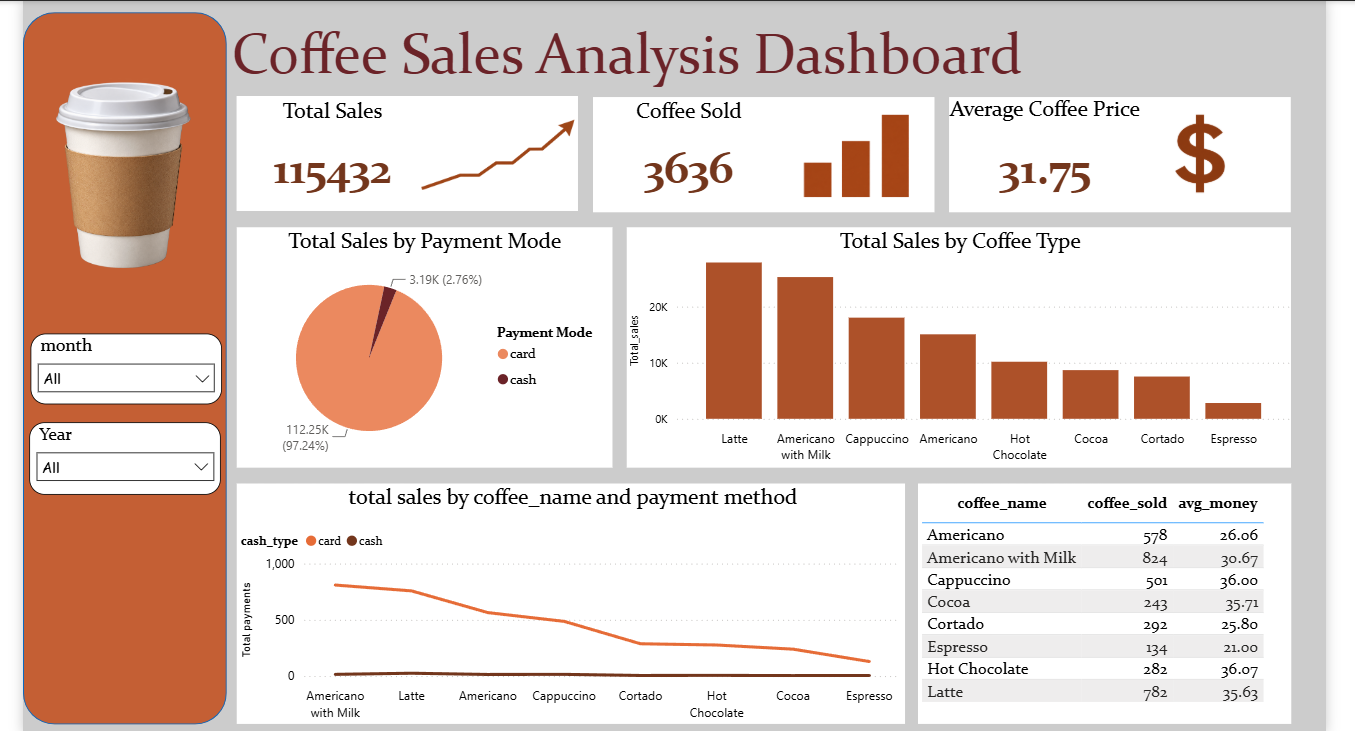

What the dashboard file says about the page in this screenshot:
{"tool":"powerbi","page":{"name":"Page 1","canvas":[1280,720],"ordinal":0},"visuals":[{"type":"shape","box":[0,11.2,200,699.1],"z":0},{"type":"image","box":[0,49.8,194.1,238.8],"z":1000},{"type":"textbox","box":[200.3,12.3,808.2,82.3],"z":2000},{"type":"pieChart","fields":{"Y":["Sum(cleaned coffee_sales.money)"],"Category":["cleaned coffee_sales.cash_type"]},"box":[209.9,222.3,369.1,236],"z":3000},{"type":"columnChart","fields":{"Y":["Sum(cleaned coffee_sales.money)"],"Category":["cleaned coffee_sales.coffee_name"]},"box":[592.8,222.3,651.8,236],"z":4000},{"type":"slicer","fields":{"Values":["cleaned coffee_sales.dates_.Variation.Date Hierarchy.Year"]},"box":[6.2,413,188,70.9],"z":5000},{"type":"slicer","fields":{"Values":["cleaned coffee_sales.month"]},"box":[6.9,326.6,188,70],"z":6000},{"type":"lineChart","title":"total sales by coffee_name and payment method","fields":{"Y":["CountNonNull(cleaned coffee_sales.cash_type)"],"Category":["cleaned coffee_sales.coffee_name"],"Series":["cleaned coffee_sales.cash_type"]},"box":[209.9,473.4,655.9,236],"z":7000},{"type":"tableEx","fields":{"Values":["cleaned coffee_sales_grouped.coffee_name","cleaned coffee_sales_grouped.coffee_sold","cleaned coffee_sales_grouped.avg_money"]},"box":[878.2,473.4,366.4,236],"z":8000},{"type":"shape","box":[209.9,93.3,334.8,113],"z":9000},{"type":"shape","box":[559.9,94.7,335,113],"z":10000},{"type":"shape","box":[909.8,94.7,335,113],"z":11000},{"type":"actionButton","title":"Total Sales","box":[209.9,94.7,178.4,112.5],"z":12000},{"type":"actionButton","title":"Coffee Sold","box":[559.9,94.7,178,113],"z":13000},{"type":"actionButton","title":"Coffee Price","box":[909.8,93.3,178,115.3],"z":14000},{"type":"image","box":[388.3,93.3,157,112.5],"z":15000},{"type":"image","box":[736.9,94.7,157.8,113.9],"z":16000},{"type":"image","box":[1077.2,108.4,156.4,83.7],"z":17000}]}

Visuals, with their boxes in screenshot pixels (x1, y1, x2, y2):
shape: bbox(18, 0, 218, 668)
image: bbox(18, 7, 212, 246)
textbox: bbox(218, 0, 1027, 52)
pieChart - Sum(cleaned coffee_sales.money) x cleaned coffee_sales.cash_type: bbox(228, 180, 597, 416)
columnChart - Sum(cleaned coffee_sales.money) x cleaned coffee_sales.coffee_name: bbox(611, 180, 1263, 416)
slicer - cleaned coffee_sales.dates_.Variation.Date Hierarchy.Year: bbox(24, 371, 212, 442)
slicer - cleaned coffee_sales.month: bbox(25, 284, 213, 354)
"total sales by coffee_name and payment method" lineChart: bbox(228, 431, 884, 667)
tableEx - cleaned coffee_sales_grouped.coffee_name x cleaned coffee_sales_grouped.coffee_sold: bbox(896, 431, 1263, 667)
shape: bbox(228, 51, 563, 164)
shape: bbox(578, 52, 913, 165)
shape: bbox(928, 52, 1263, 165)
"Total Sales" actionButton: bbox(228, 52, 406, 165)
"Coffee Sold" actionButton: bbox(578, 52, 756, 165)
"Coffee Price" actionButton: bbox(928, 51, 1106, 166)
image: bbox(406, 51, 563, 164)
image: bbox(755, 52, 913, 166)
image: bbox(1095, 66, 1252, 150)
